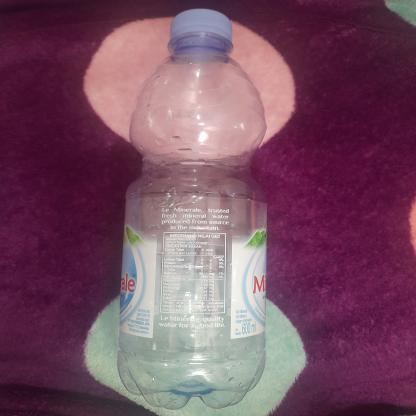bottle: (112, 8, 276, 416)
